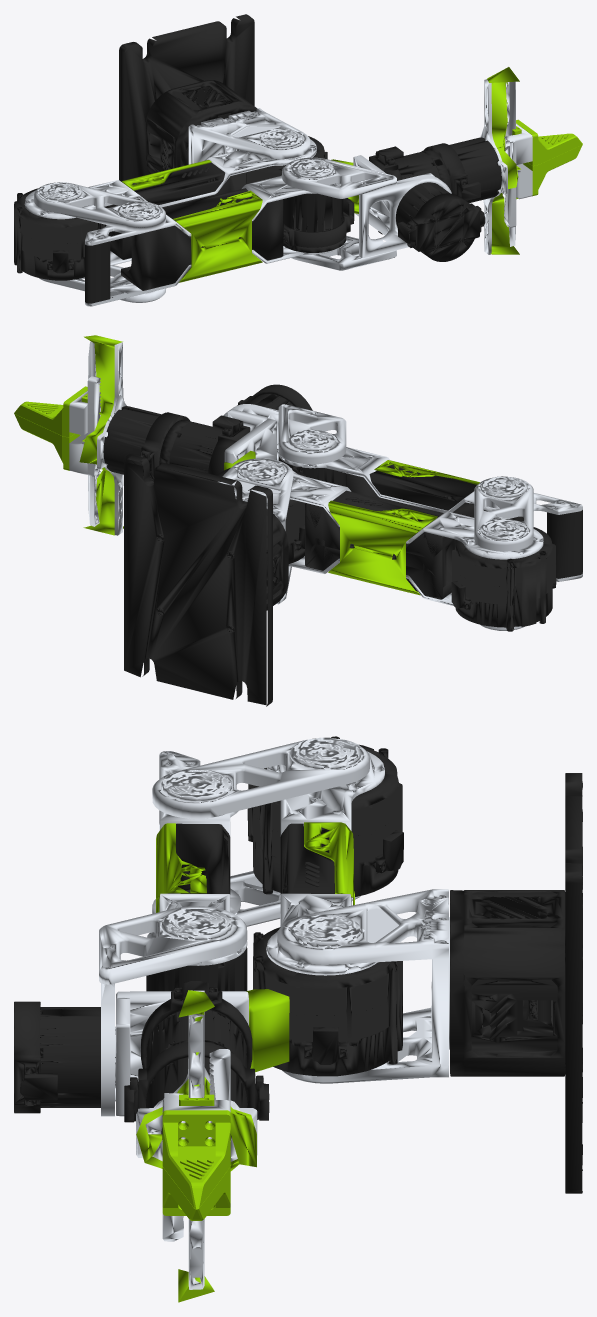
Rendered from rebot_arm_lite_draco.glb.
3 renders of one model, top to bottom at view 1: azimuth 30°, elevation 25°; view 2: azimuth 150°, elevation 25°; view 3: azimuth 270°, elevation 25°, orthographic. The views are drawn at different scales.
Parts seen in each view (by area): view 1: base_link, cnc3, pla3_black_without_seeed_badge, cnc4, motor_2_3, motor_5, pla3_green, link1, motor_4, motor_7, pla2_black, cnc2 (+10 smaller); view 2: base_link, motor_2_3, cnc3, pla2_green, pla2_black, pla3_black_without_seeed_badge, cnc4, cnc2, motor_7, pla7_green, motor_6, link1 (+10 smaller); view 3: base_link, motor_2_3, cnc3, link1, cnc4, motor_5, cnc2, pla_right, motor_7, motor_6, cnc7, cnc5 (+10 smaller).
Boxes of the visible parts, x1=… form: base_link: x1=119, y1=14, x2=256, y2=182; cnc3: x1=34, y1=175, x2=341, y2=306; pla3_black_without_seeed_badge: x1=85, y1=188, x2=283, y2=303; cnc4: x1=282, y1=157, x2=451, y2=270; motor_2_3: x1=14, y1=136, x2=327, y2=280; motor_5: x1=396, y1=182, x2=485, y2=261; pla3_green: x1=173, y1=190, x2=262, y2=282; link1: x1=188, y1=108, x2=310, y2=164; motor_4: x1=283, y1=186, x2=354, y2=252; motor_7: x1=421, y1=137, x2=501, y2=203; pla2_black: x1=105, y1=162, x2=246, y2=259; cnc2: x1=24, y1=139, x2=316, y2=265; base_link: x1=124, y1=455, x2=288, y2=706; motor_2_3: x1=213, y1=466, x2=556, y2=631; cnc3: x1=278, y1=447, x2=582, y2=630; pla2_green: x1=328, y1=500, x2=437, y2=595; pla2_black: x1=305, y1=490, x2=456, y2=599; pla3_black_without_seeed_badge: x1=345, y1=464, x2=582, y2=578; cnc4: x1=223, y1=404, x2=346, y2=464; cnc2: x1=224, y1=471, x2=543, y2=605; motor_7: x1=103, y1=406, x2=190, y2=481; pla7_green: x1=79, y1=335, x2=123, y2=535; motor_6: x1=169, y1=415, x2=250, y2=480; link1: x1=218, y1=458, x2=293, y2=604; base_link: x1=450, y1=773, x2=582, y2=1193; motor_2_3: x1=247, y1=736, x2=403, y2=1076; cnc3: x1=147, y1=737, x2=369, y2=965; link1: x1=277, y1=889, x2=449, y2=1083; cnc4: x1=99, y1=906, x2=247, y2=1116; motor_5: x1=14, y1=1001, x2=100, y2=1113; cnc2: x1=266, y1=751, x2=384, y2=975; pla_right: x1=162, y1=1094, x2=230, y2=1209; motor_7: x1=124, y1=1042, x2=269, y2=1140; motor_6: x1=141, y1=981, x2=252, y2=1068; cnc7: x1=136, y1=990, x2=257, y2=1289; cnc5: x1=115, y1=991, x2=248, y2=1116.
Size of the model in its own units: 0.5613 by 0.2 by 0.3207.
